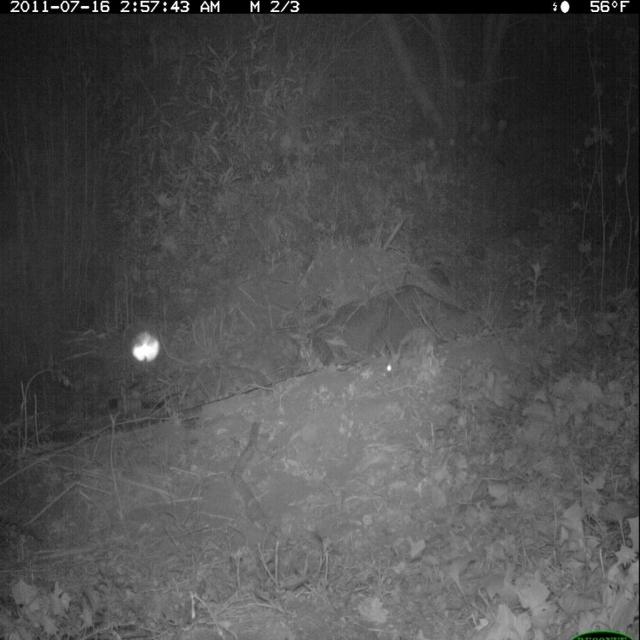rabbit: (381, 325, 444, 387)
